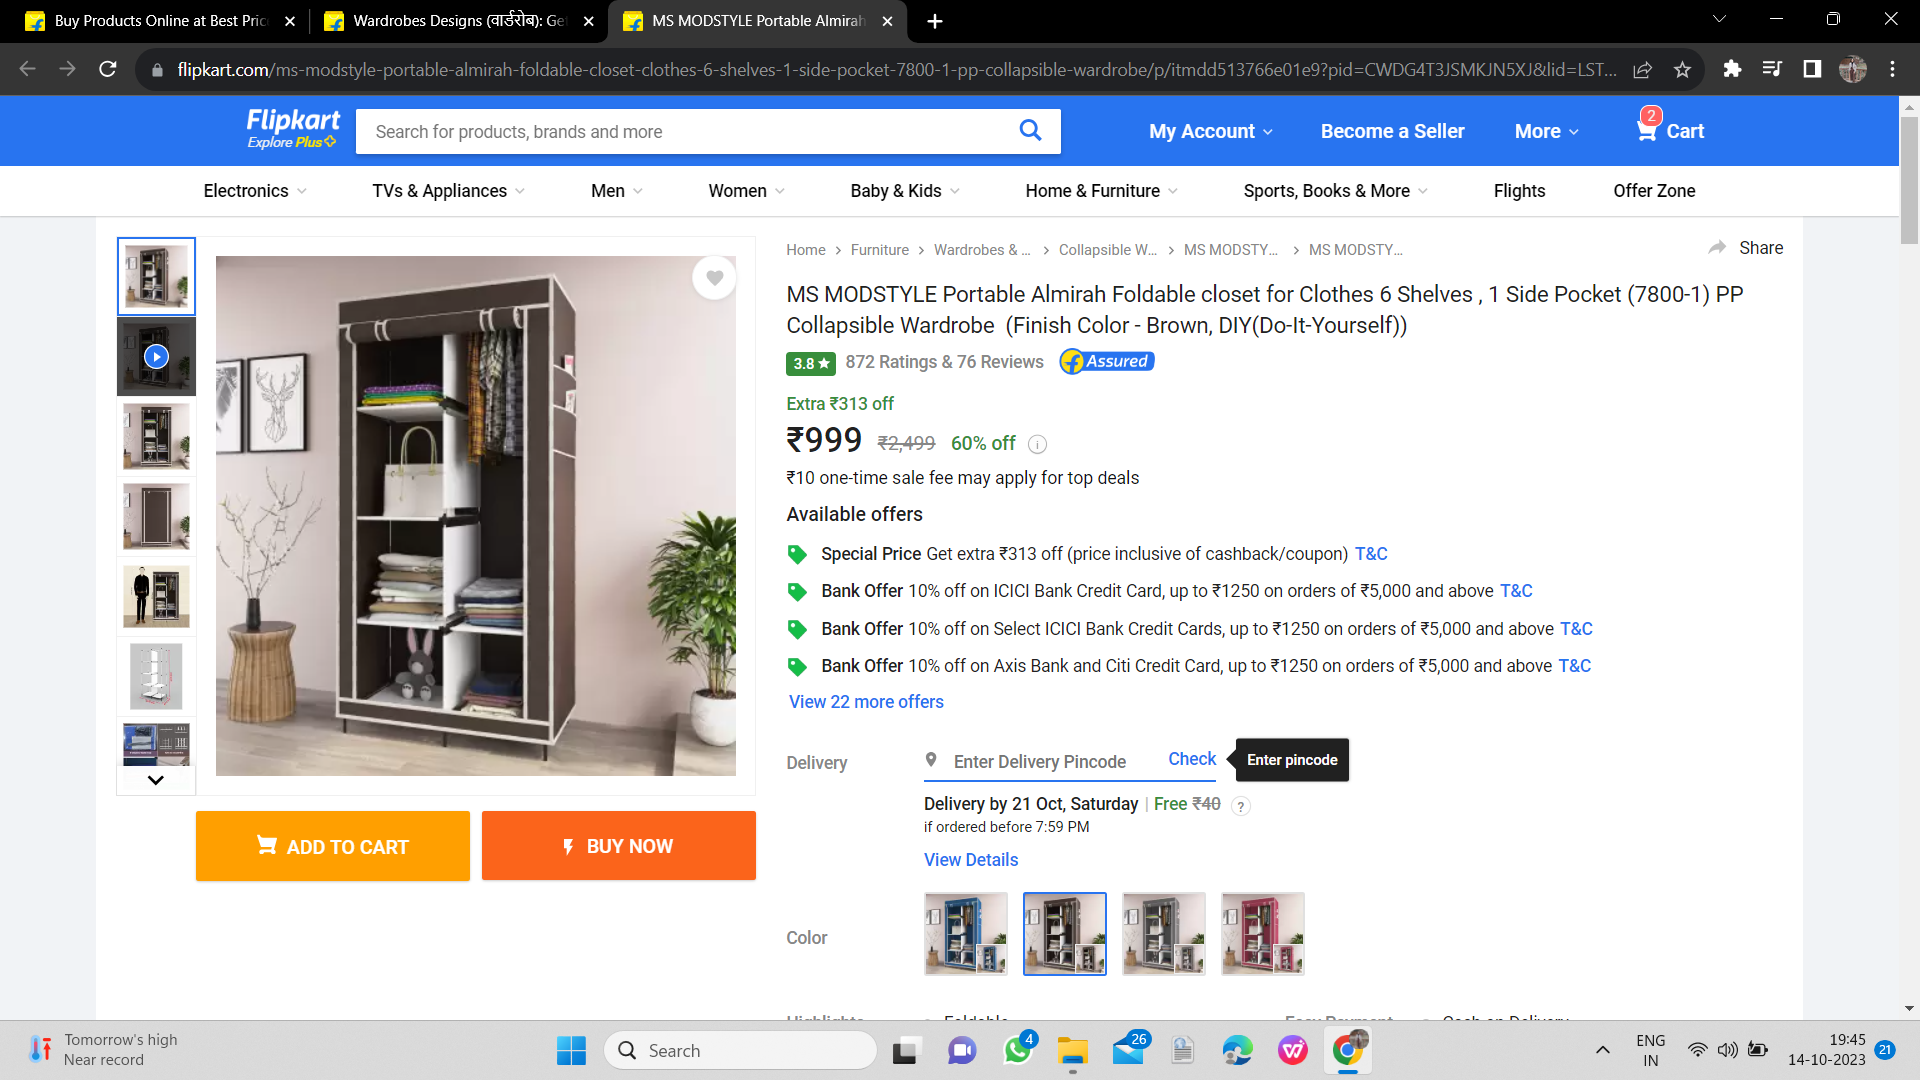Image: (211, 250, 741, 775), (888, 884, 1318, 982)
Paragraph: (775, 542, 1612, 726), (777, 271, 1743, 337), (179, 807, 767, 891), (1128, 103, 1717, 154), (918, 733, 1373, 782), (771, 378, 1032, 457), (775, 331, 1170, 378), (775, 466, 1151, 491), (918, 788, 1140, 814), (777, 498, 944, 525), (773, 747, 863, 773), (777, 916, 844, 950), (897, 769, 906, 771)
